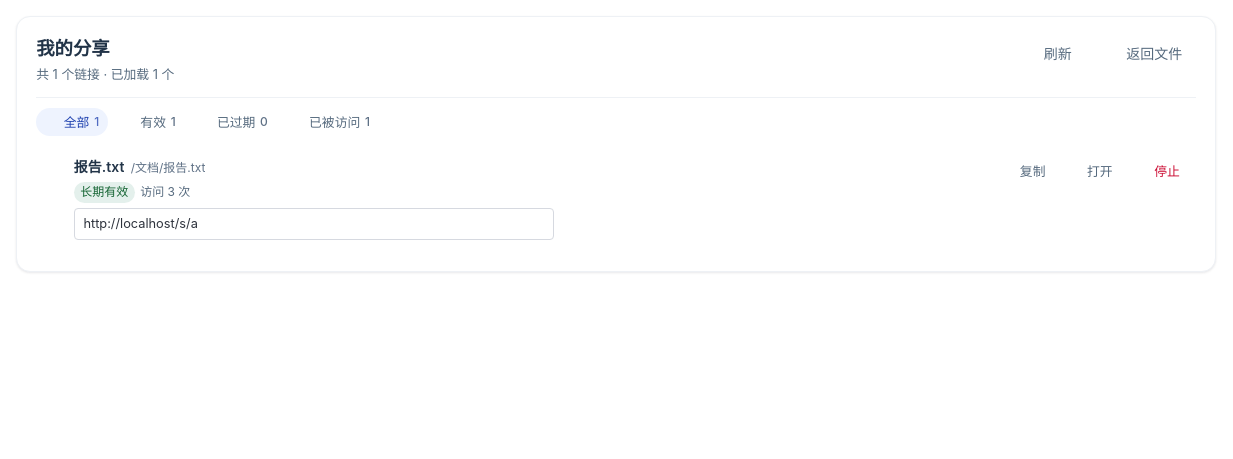
it: SharedLinks.vue › shows a filter-specific empty state
expect the text "报告.txt" is shown: met, box [74,156,124,177]
Step 1. Click the button with class "shares-filter" showing "已过期 0" → [233, 122], box [189,108,277,136]
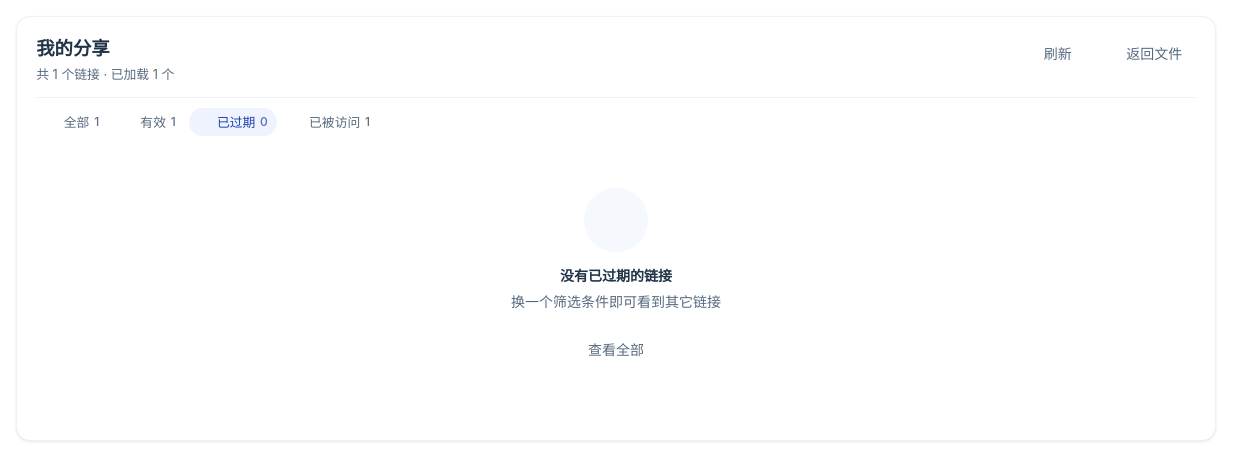
expect the text with class "empty-state-title" reads "没有已过期的链接": met, box [560,267,672,284]
Step 2. Click the button "查看全部" → [616, 349], box [574,331,658,367]
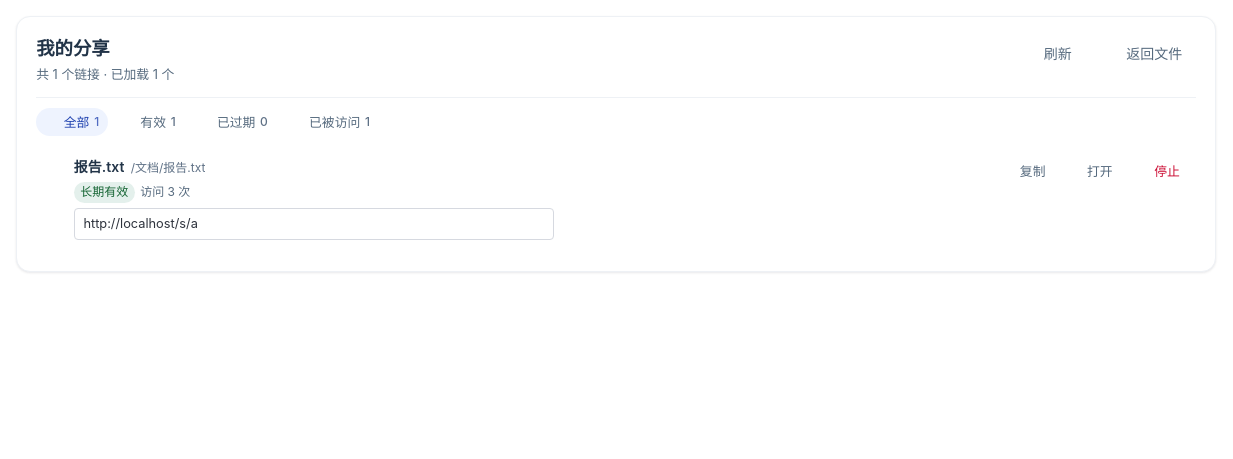
expect the text with class "shares-name" reads "报告.txt": met, box [74,158,124,175]
